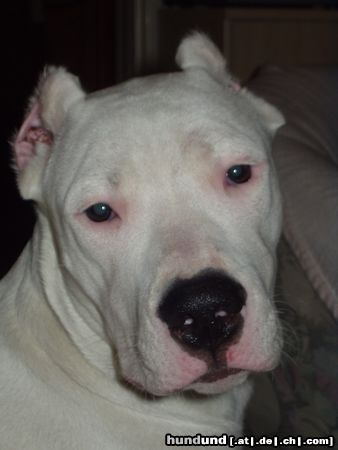dogo_argentino: (0, 30, 288, 450)
